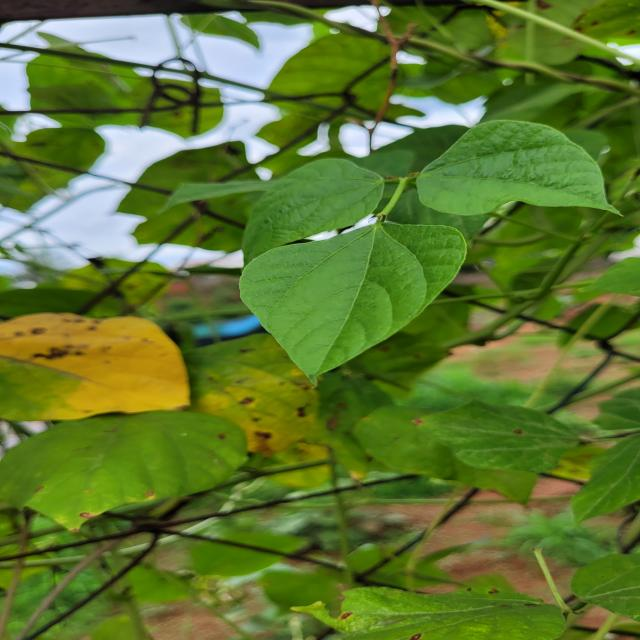Dolicos bean_cercospora leaf spot: (0, 407, 254, 532), (0, 308, 192, 426), (184, 366, 337, 461), (408, 397, 584, 472)
Dolicos bean_healthy: (238, 221, 454, 370), (409, 119, 640, 216), (239, 157, 392, 265)
